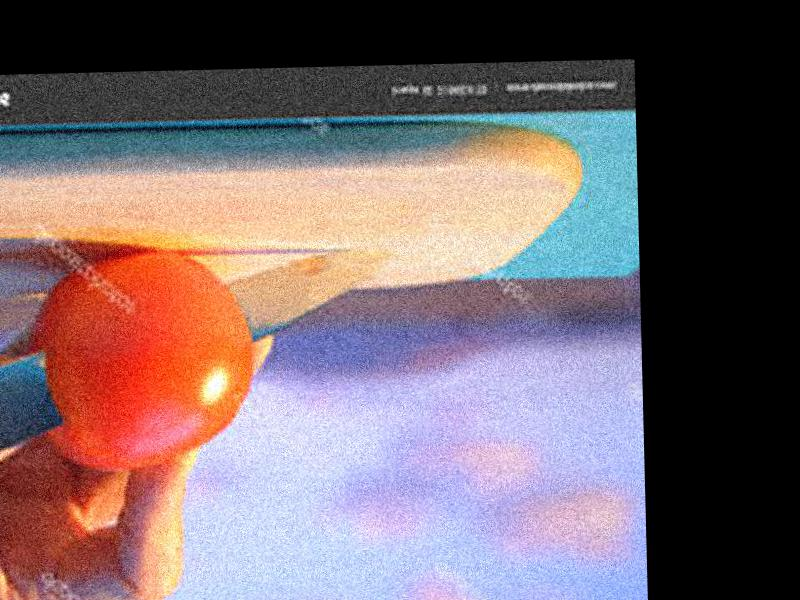Tomato: (28, 244, 258, 469)
